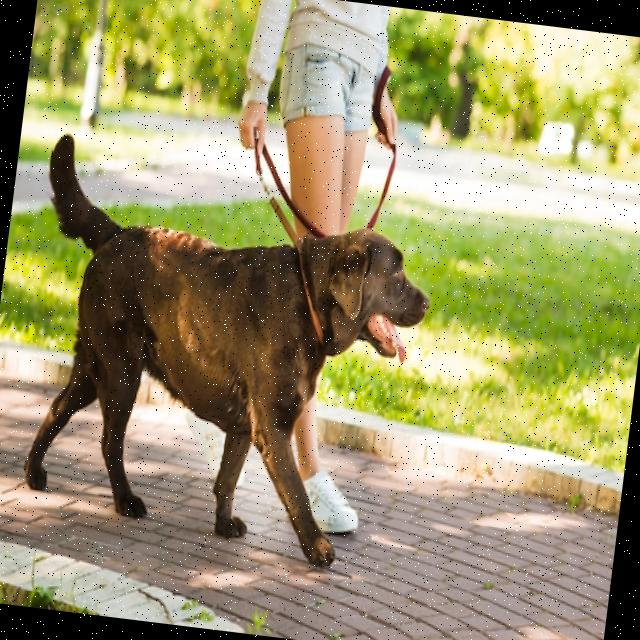Dog: (6, 131, 447, 574)
